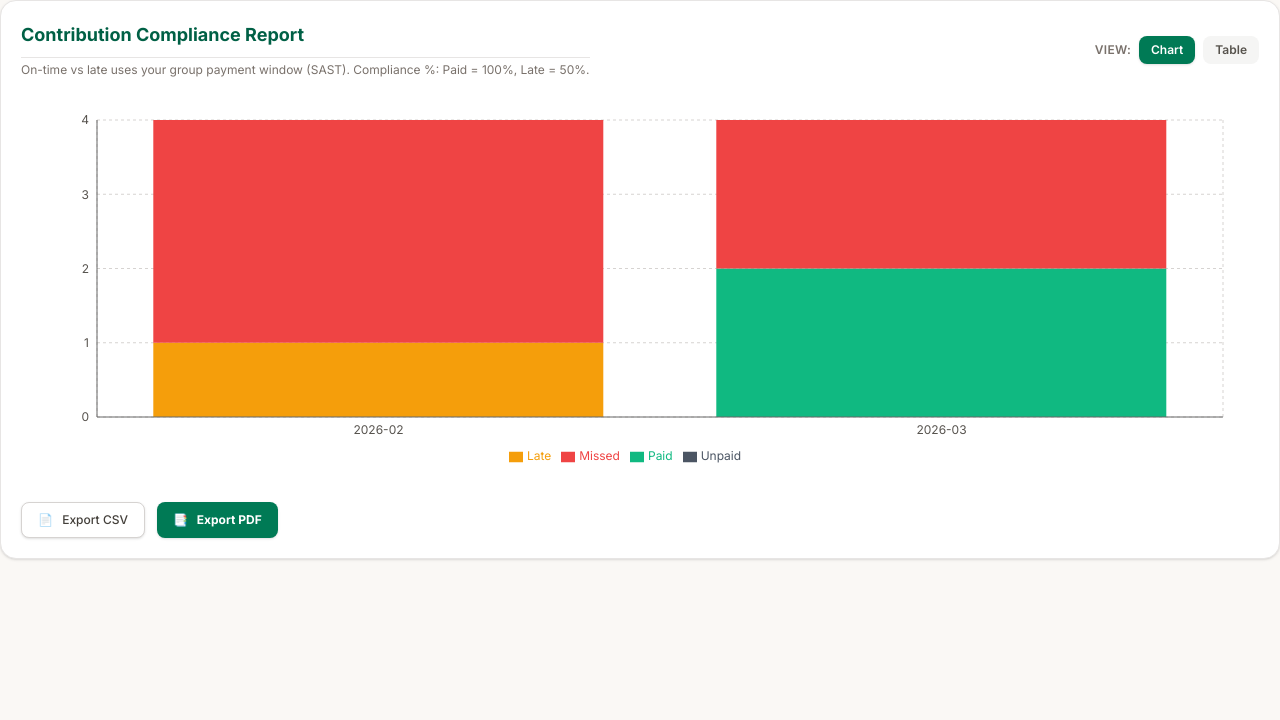
it: ComplianceReportWidget › renders member display fallbacks and compliance badge tiers
Click the button "Table".
click(1231, 50)  # box x1=1203 y1=36 x2=1259 y2=64
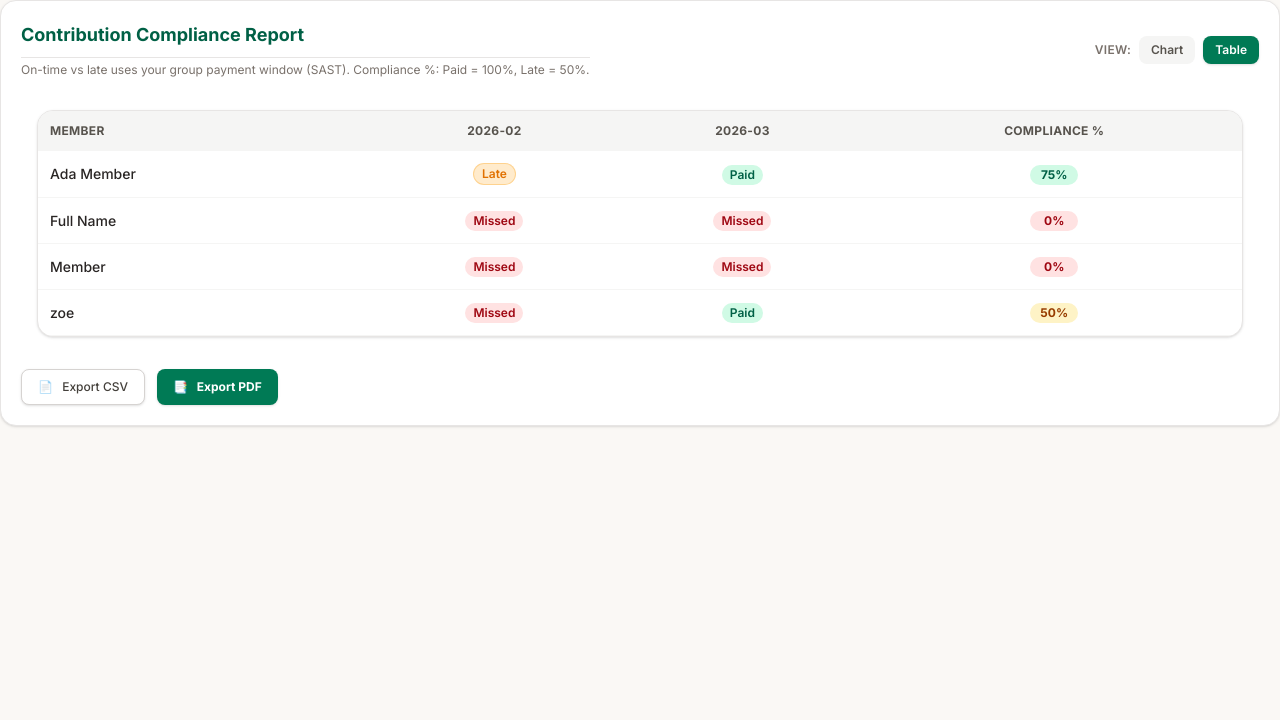
Result: the text "zoe" is shown at x1=38 y1=290 x2=370 y2=336
Result: the text "Full Name" is shown at x1=38 y1=198 x2=370 y2=244
Result: the 1st text "Missed" is shown at x1=465 y1=211 x2=523 y2=231
